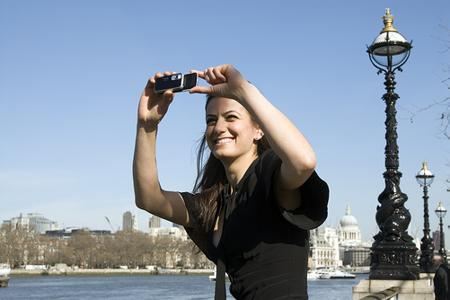person: (134, 65, 326, 299)
